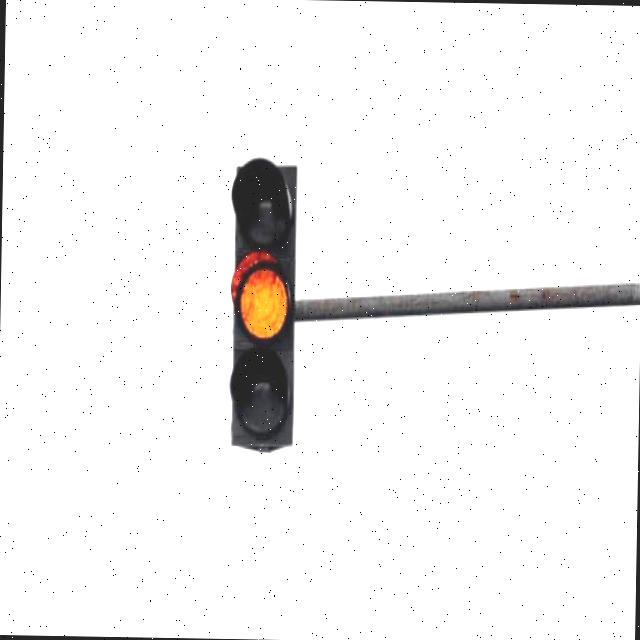yellow_light: (230, 167, 298, 445)
